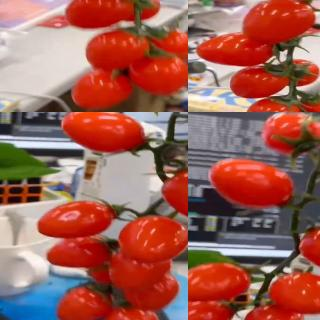tomato: (208, 156, 294, 208), (63, 112, 152, 156), (242, 0, 317, 46), (118, 215, 188, 264), (36, 200, 117, 239), (85, 27, 150, 71), (198, 32, 277, 68), (71, 66, 134, 111), (126, 54, 188, 97), (261, 112, 320, 157), (110, 252, 174, 293), (188, 262, 251, 302), (46, 235, 114, 270), (125, 272, 180, 312), (270, 271, 320, 314), (229, 64, 290, 99), (56, 285, 115, 320), (65, 0, 136, 29), (139, 25, 188, 67), (162, 168, 188, 221), (243, 303, 304, 320), (283, 58, 320, 86), (123, 0, 161, 27), (300, 226, 320, 275), (101, 305, 164, 320), (188, 301, 236, 320), (245, 96, 301, 112), (299, 91, 320, 112)
